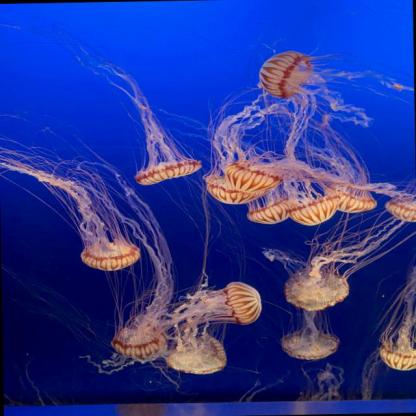jellyfish: (285, 266, 347, 311), (164, 332, 227, 374), (259, 52, 312, 98), (82, 240, 140, 272), (134, 158, 201, 185), (224, 161, 284, 191), (206, 176, 264, 206), (281, 332, 338, 361), (289, 194, 340, 226), (225, 280, 261, 325), (112, 328, 164, 358), (324, 185, 376, 213), (248, 196, 297, 225), (380, 344, 416, 372), (385, 198, 415, 224)
